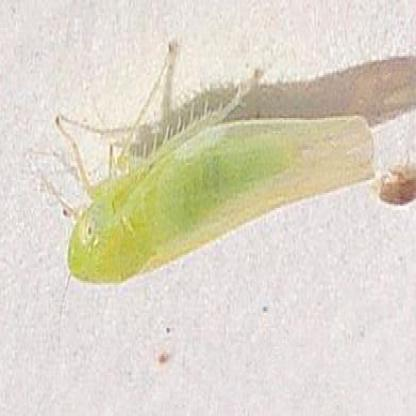green-leafhopper: (69, 112, 374, 286)
